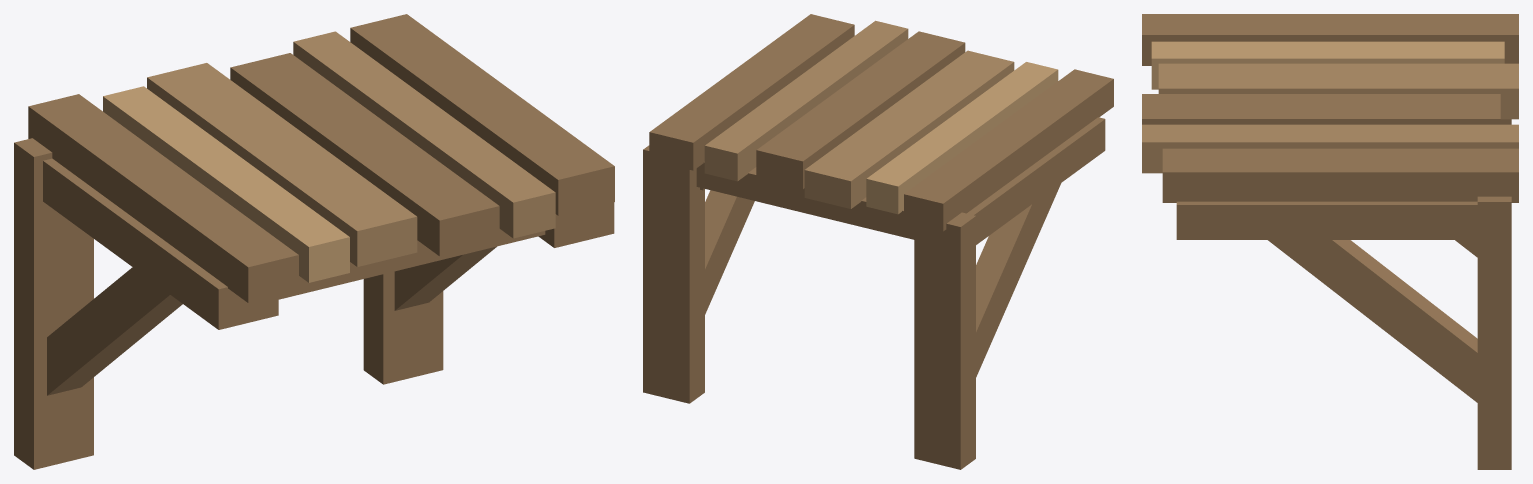
Rendered from SM_Bridge_Wooden_02_A.fbx.
3 renders of one model, left to right at view 1: azimuth 30°, elevation 25°; view 2: azimuth 150°, elevation 25°; view 3: azimuth 270°, elevation 25°, orthographic. The views are drawn at different scales.
Visible parts, largest first — view 1: pCube165; view 2: pCube165; view 3: pCube165.
Boxes of the visible parts, left/top/right/bottom form: pCube165: left=14, top=14, right=614, bottom=469; pCube165: left=643, top=14, right=1113, bottom=469; pCube165: left=1142, top=14, right=1518, bottom=469.
Size of the model in its own units: 95.45 by 76.1 by 88.81.
Materials: 1 (1 with a texture image).
